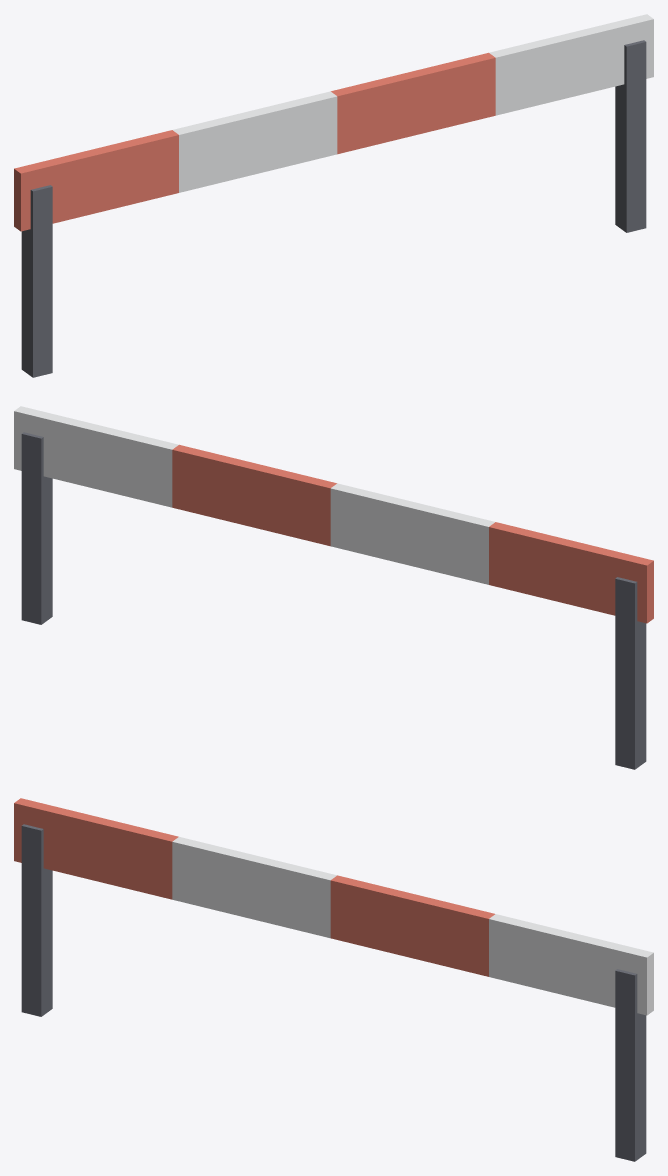
The model's file is barrier.glb.
3 views of the same model, one above another, from view 1: azimuth 30°, elevation 25°; view 2: azimuth 150°, elevation 25°; view 3: azimuth 330°, elevation 25° (orthographic).
Visible parts, largest first — view 1: barrier; view 2: barrier; view 3: barrier.
Part boxes in pixels (x1,y1,x2,y2): barrier: (14,14,653,377); barrier: (14,406,653,769); barrier: (14,798,653,1161).
Bounding box in the file's own units: 3.2 × 0.99 × 0.1.
